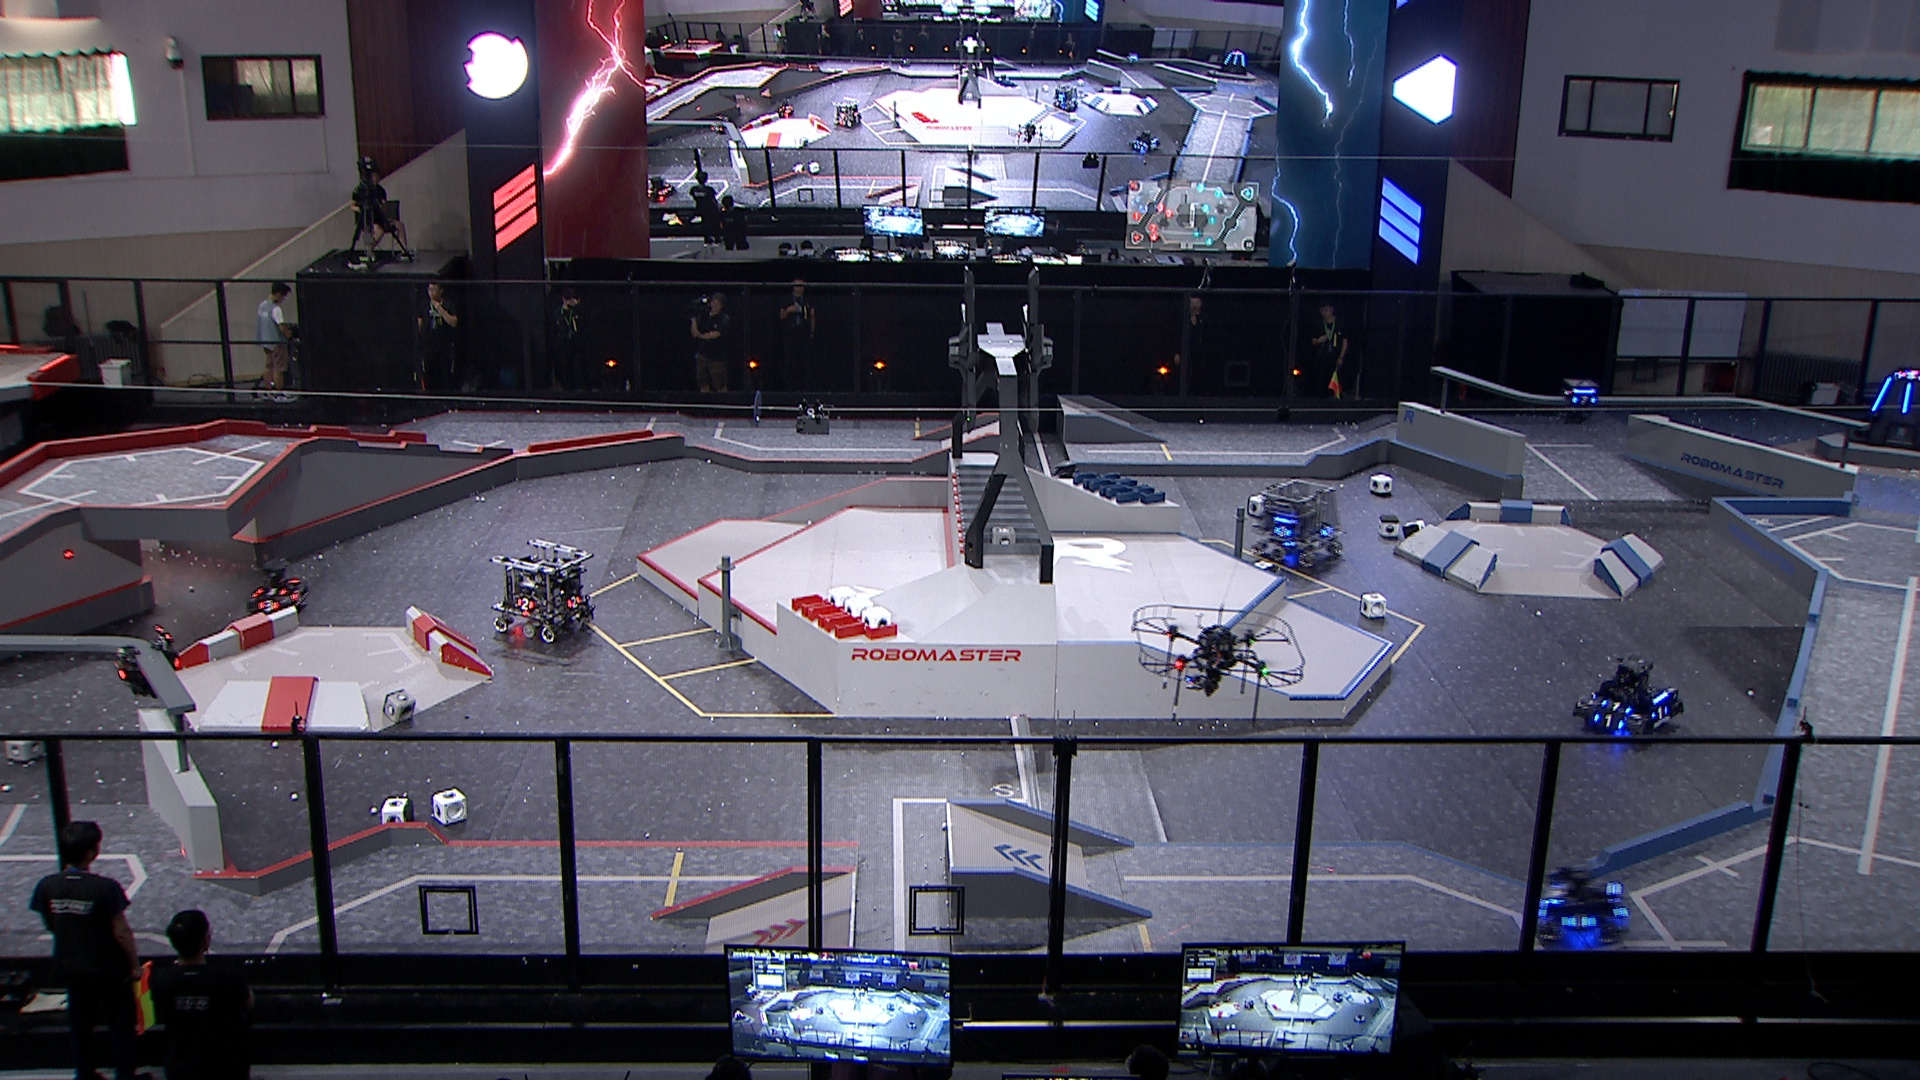armor: (1869, 373, 1894, 413), (1557, 910, 1594, 932), (1593, 711, 1625, 731), (1602, 698, 1633, 713), (1545, 884, 1565, 906), (1902, 382, 1915, 413), (256, 599, 281, 613), (1648, 704, 1669, 721), (256, 585, 286, 597), (1273, 524, 1294, 538), (564, 593, 584, 608), (1571, 396, 1600, 405), (516, 597, 534, 612), (289, 585, 301, 603), (1319, 522, 1333, 535)
base: (1849, 371, 1920, 458)
car: (487, 535, 596, 642), (1575, 647, 1684, 744), (1522, 858, 1627, 945), (1251, 480, 1346, 570), (240, 562, 309, 618)
ignore: (1050, 83, 1084, 115), (645, 171, 676, 202), (832, 102, 864, 131), (1218, 50, 1250, 76), (1127, 131, 1160, 153), (1898, 372, 1920, 381)
watcher: (109, 622, 182, 695), (1557, 376, 1604, 425)
